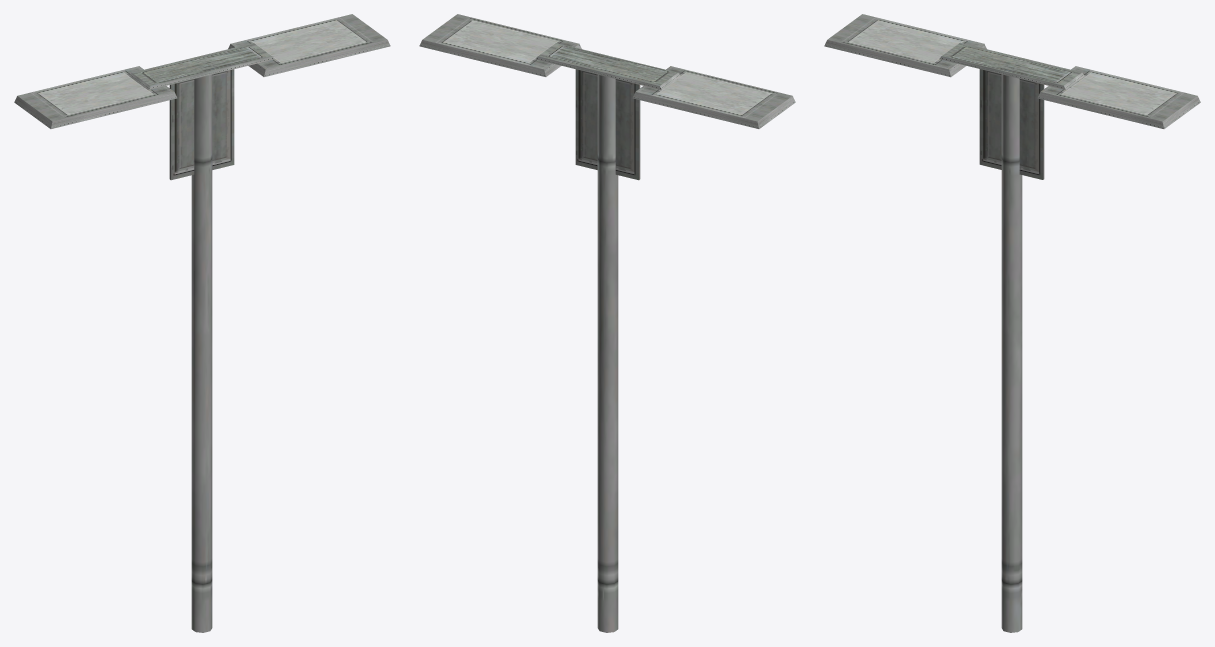
The model's file is frn_all_streetlamp_m_s1_l0.fbx.
3 views of the same model, side by side, from view 1: azimuth 30°, elevation 25°; view 2: azimuth 150°, elevation 25°; view 3: azimuth 330°, elevation 25° (orthographic).
Parts seen in each view (by area): view 1: mesh_node; view 2: mesh_node; view 3: mesh_node.
Part boxes in pixels (bbox=[...]): mesh_node: bbox=[14, 14, 390, 632]; mesh_node: bbox=[419, 14, 795, 632]; mesh_node: bbox=[824, 14, 1200, 632].
Size of the model in its own units: 1.9 by 3.01 by 0.354.
Materials: 2 (2 with a texture image).
